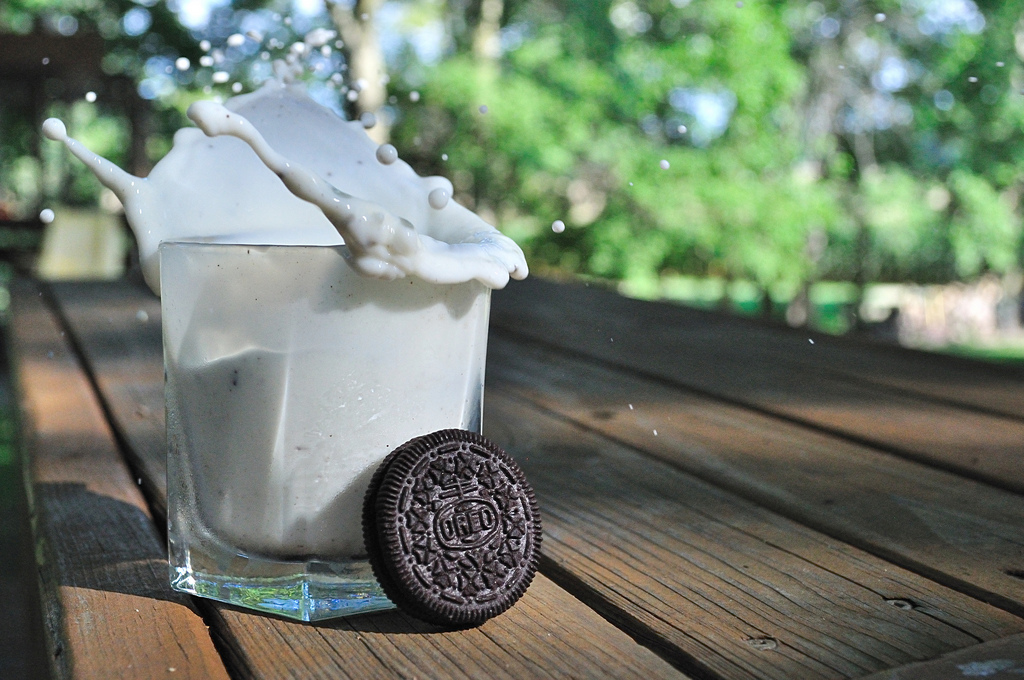glass of milk: (133, 192, 525, 648)
